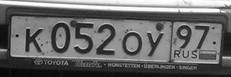license-plateSW: (8, 12, 222, 67)
